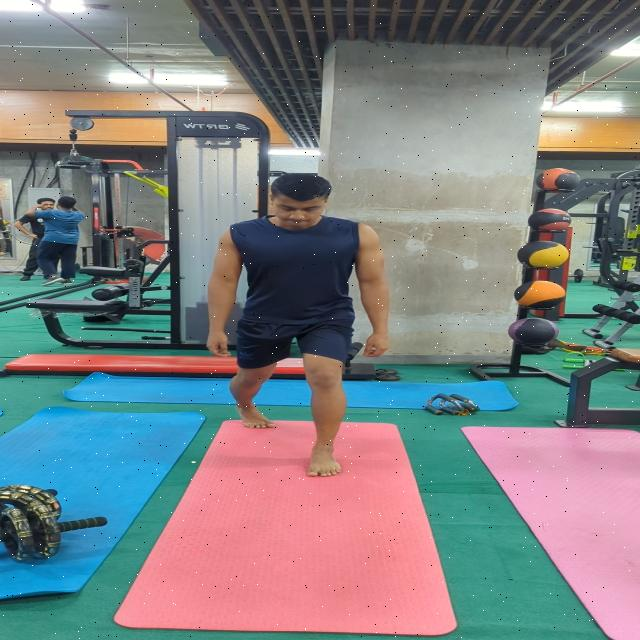Normal_Lunges: (200, 165, 394, 479)
